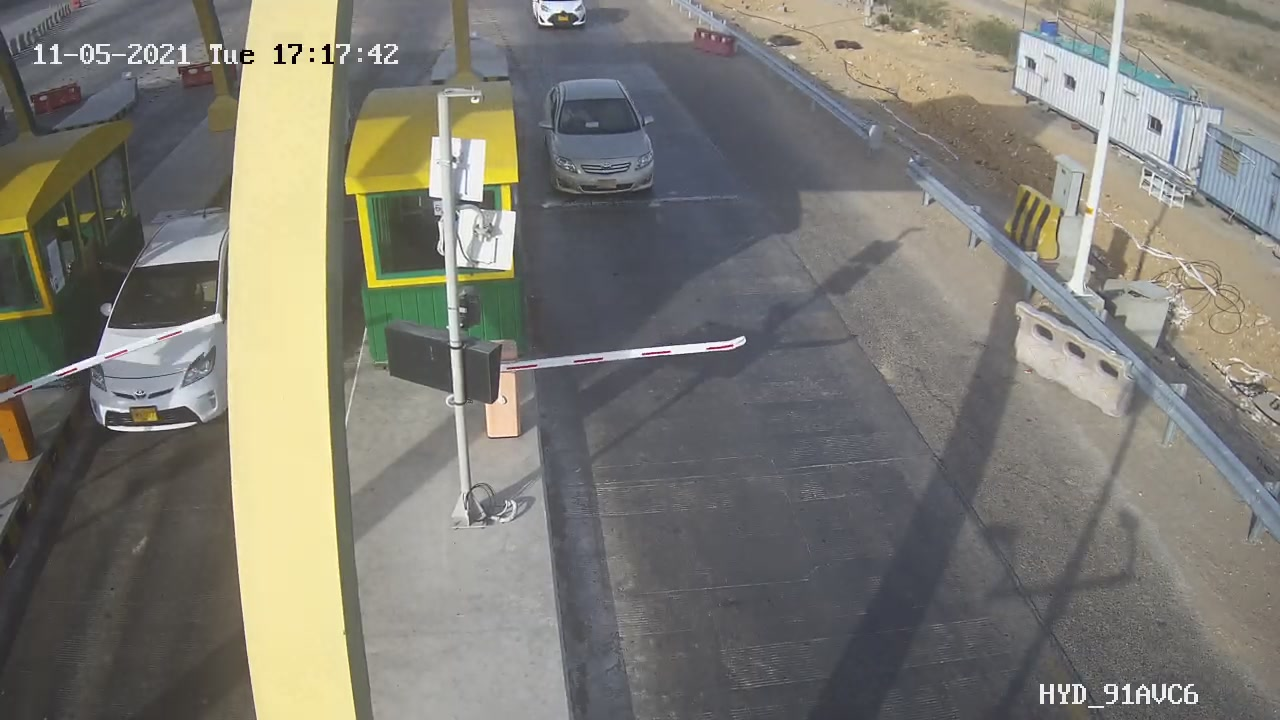F1: (525, 66, 673, 213)
